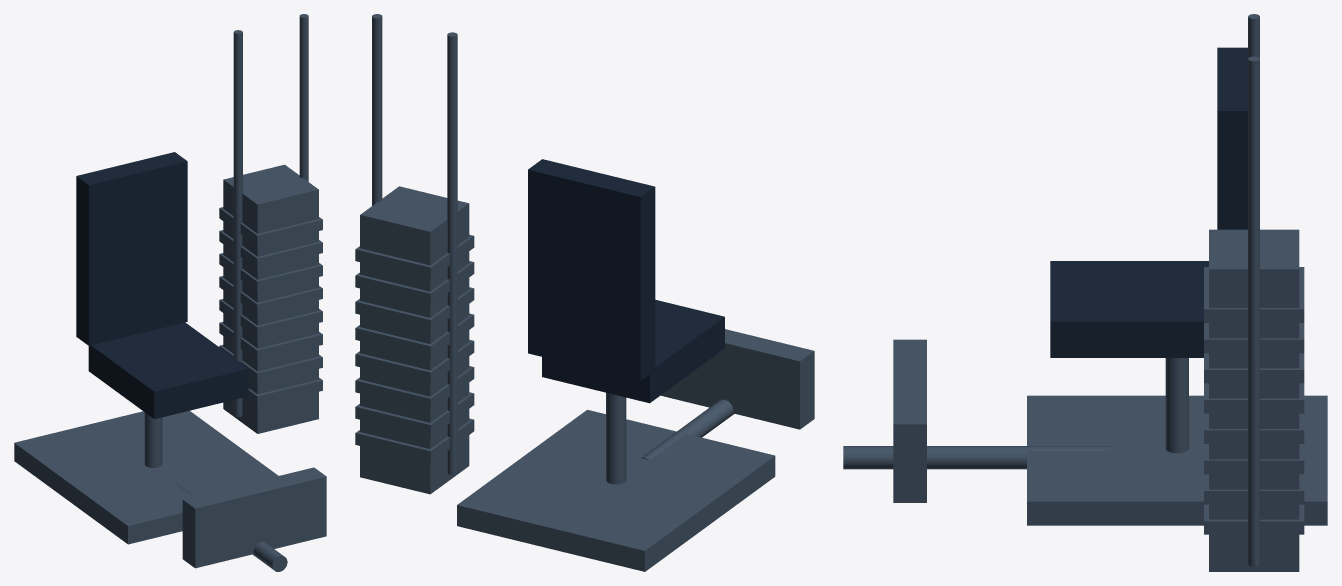
Rendered from seated_row.glb.
The picture shows the model from 3 angles, left to right: view 1: azimuth 30°, elevation 25°; view 2: azimuth 150°, elevation 25°; view 3: azimuth 270°, elevation 25°; orthographic projection. The views are drawn at different scales.
Visible parts, largest first — view 1: back, base, stack, seat, footSupport, weightPlate (×8), guide (×2), post, frontRail; view 2: base, back, stack, weightPlate (×8), footSupport, seat, guide (×2), post, frontRail; view 3: base, stack, seat, weightPlate (×8), guide, back, footSupport, frontRail, post.
Part boxes in pixels (<box>): back: <box>76,152,187,345</box>; base: <box>14,410,278,544</box>; stack: <box>223,164,318,433</box>; seat: <box>88,322,248,419</box>; footSupport: <box>182,467,326,568</box>; weightPlate (×8): <box>219,207,322,406</box>; guide (×2): <box>233,14,308,416</box>; post: <box>144,412,162,467</box>; frontRail: <box>175,481,287,571</box>; base: <box>457,409,775,571</box>; back: <box>528,159,655,380</box>; stack: <box>360,186,469,494</box>; weightPlate (×8): <box>355,234,474,462</box>; footSupport: <box>661,329,814,429</box>; seat: <box>542,299,724,403</box>; guide (×2): <box>372,14,457,474</box>; post: <box>606,392,626,484</box>; frontRail: <box>641,399,734,459</box>; base: <box>1027,395,1327,525</box>; stack: <box>1209,229,1299,571</box>; seat: <box>1050,261,1208,357</box>; weightPlate (×8): <box>1204,267,1304,534</box>; guide: <box>1248,56,1259,566</box>; back: <box>1217,47,1247,229</box>; footSupport: <box>893,339,926,502</box>; frontRail: <box>843,446,1110,469</box>; post: <box>1165,358,1188,453</box>.
Bounding box in the file's own units: 1.21 × 1.77 × 1.45.
